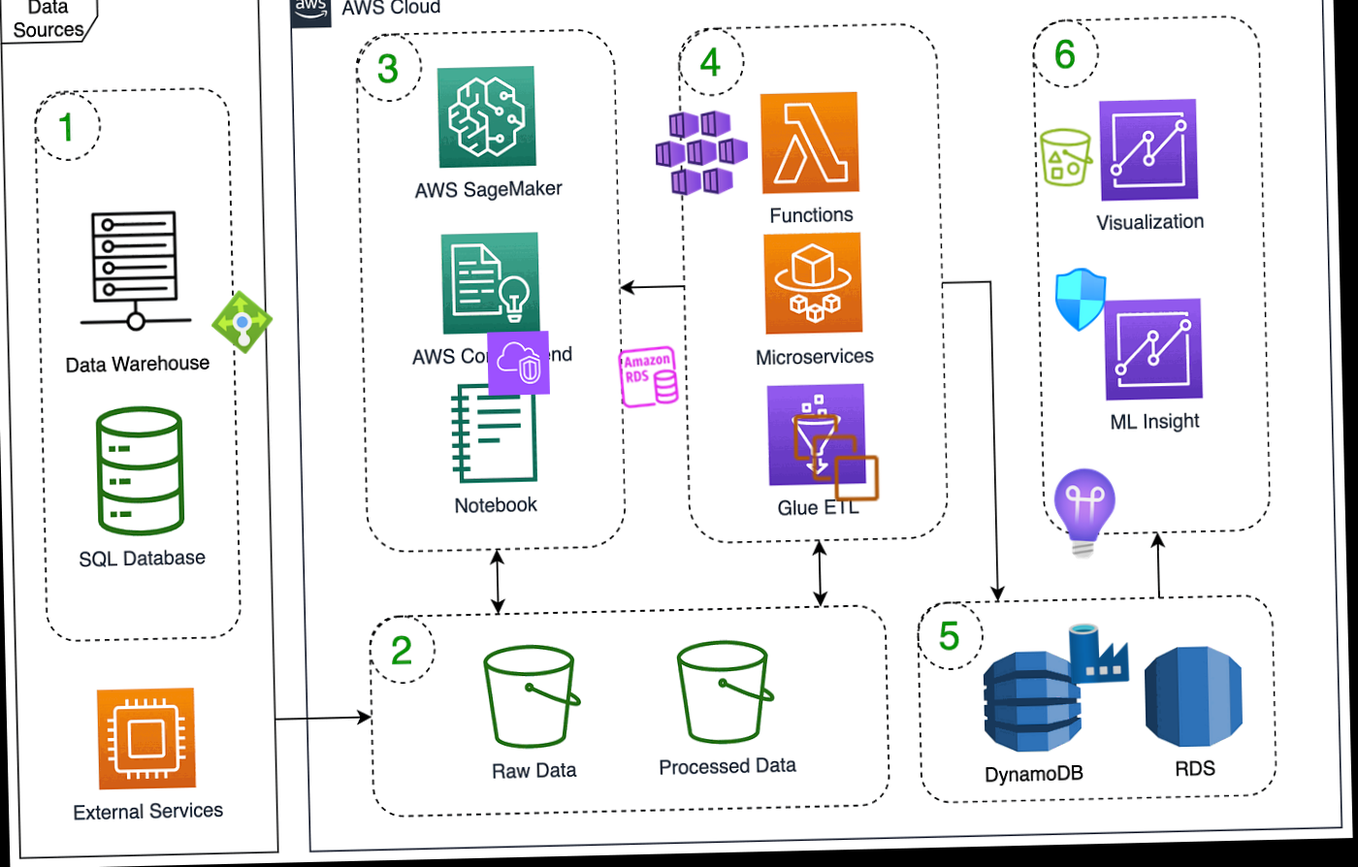aws_amazon_virtual_private_cloud: (486, 330, 550, 396)
aws_aurora_amazon_rds_instance: (614, 341, 682, 412)
aws_ec2_instances: (788, 408, 884, 507)
aws_simple_storage_service_bucket_with_objects: (1033, 122, 1099, 191)
azure_application_insights: (1033, 461, 1135, 565)
azure_data_factories: (1066, 619, 1131, 686)
azure_kubernetes_services: (652, 101, 751, 202)
azure_load_balancers: (208, 286, 276, 357)
azure_network_security_groups: (1046, 264, 1115, 335)
